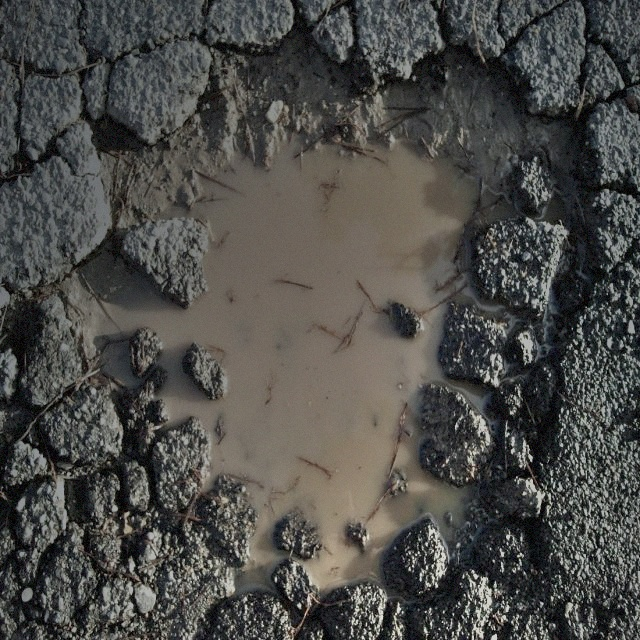pothole: (65, 30, 606, 598)
